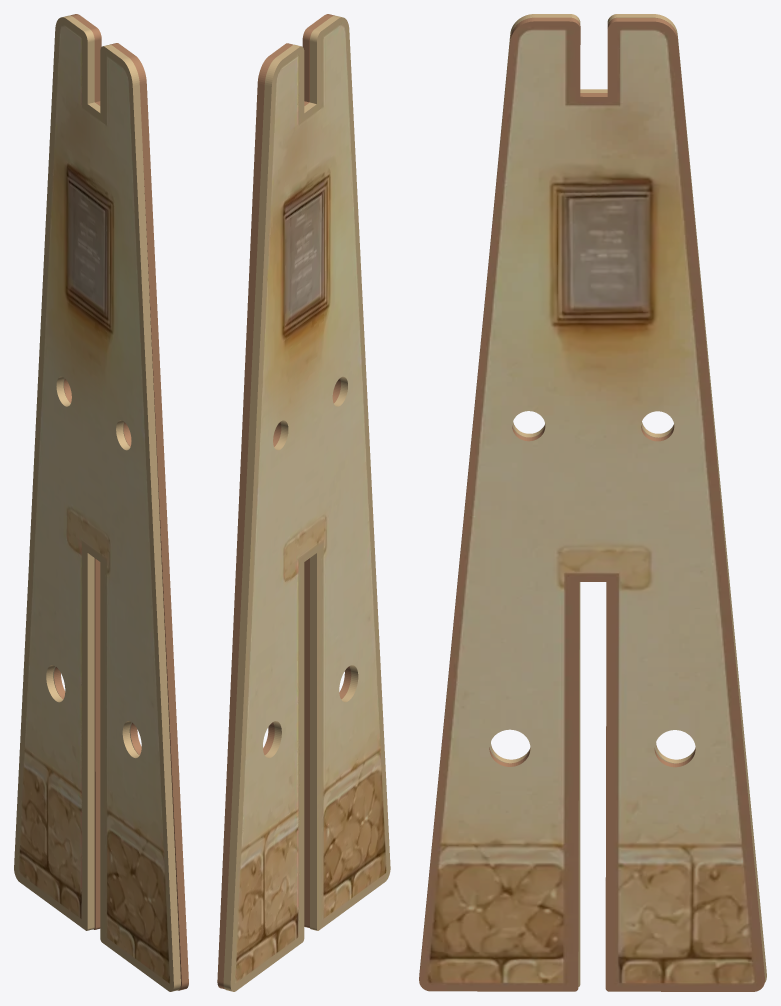
The model's file is connector-stabilizer-01.glb.
3 renders of one model, left to right at view 1: azimuth 30°, elevation 25°; view 2: azimuth 150°, elevation 25°; view 3: azimuth 270°, elevation 25°, orthographic. The views are drawn at different scales.
Visible parts, largest first — view 1: connector-stabilizer-01; view 2: connector-stabilizer-01; view 3: connector-stabilizer-01.
Boxes of the visible parts, x1,y1,x2,y2 form: connector-stabilizer-01: [14, 14, 188, 991]; connector-stabilizer-01: [217, 14, 390, 991]; connector-stabilizer-01: [419, 14, 766, 991].
Bounding box in the file's own units: 18 × 1095 × 356.
4 materials, 2 textured.
